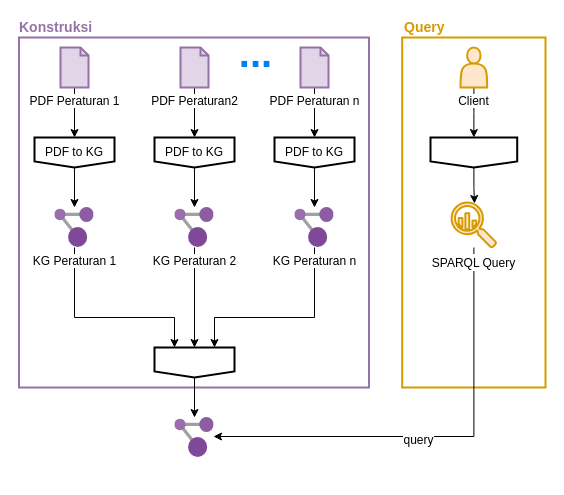
This 564x495 diagram has some shape labels left out. The shapes that lost their labels are listed below. From the top down, each one's centre as x and y in pixels, then its label:
At pixel 473 152: "Query Builder".
At pixel 194 362: "merge KG".
At pixel 194 437: "KG UURI".
